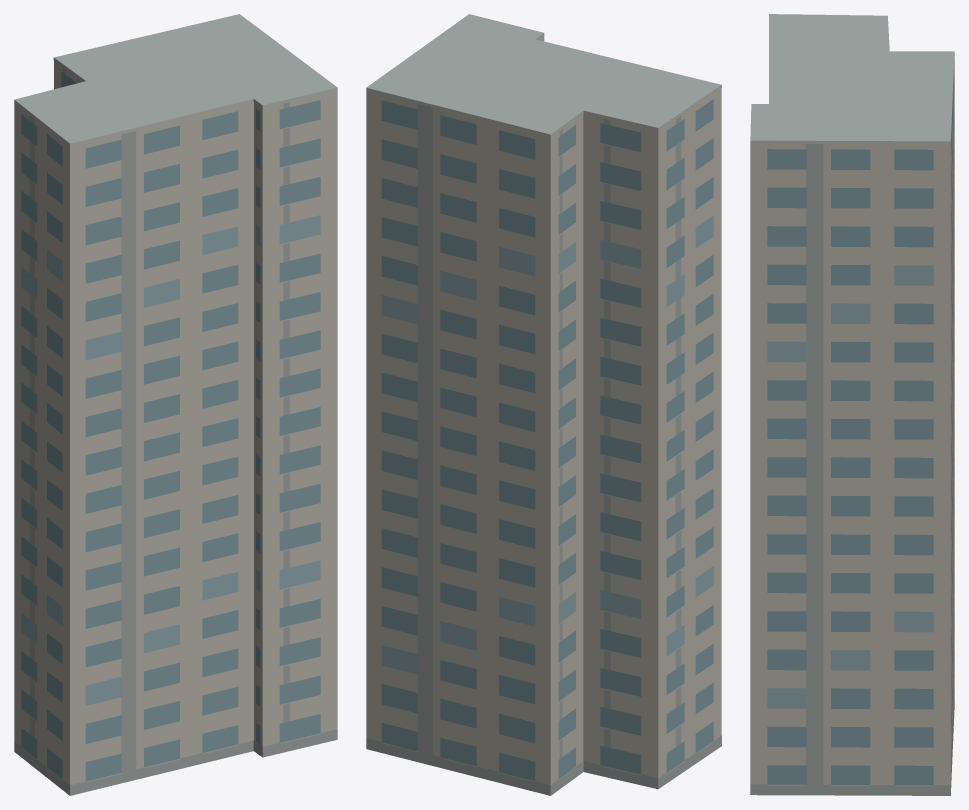
The model's file is residential-2a8f02e7-ecd6-4eb1-a197-7774addef00c.glb.
3 views of the same model, side by side, from view 1: azimuth 30°, elevation 25°; view 2: azimuth 150°, elevation 25°; view 3: azimuth 270°, elevation 25° (orthographic).
Visible parts, largest first — view 1: residential-2a8f02e7-ecd6-4eb1-a197-7774addef00c.tmp; view 2: residential-2a8f02e7-ecd6-4eb1-a197-7774addef00c.tmp; view 3: residential-2a8f02e7-ecd6-4eb1-a197-7774addef00c.tmp.
Part boxes in pixels (x1,y1,x2,y2): residential-2a8f02e7-ecd6-4eb1-a197-7774addef00c.tmp: (14,14,337,795); residential-2a8f02e7-ecd6-4eb1-a197-7774addef00c.tmp: (366,14,721,795); residential-2a8f02e7-ecd6-4eb1-a197-7774addef00c.tmp: (750,14,954,795).
Size of the model in its own units: 20.88 by 50 by 14.15.
